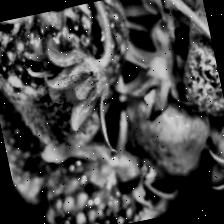Powdery Mildew Fruit: (0, 0, 149, 162), (0, 27, 66, 205), (33, 134, 151, 224), (159, 0, 224, 118)
